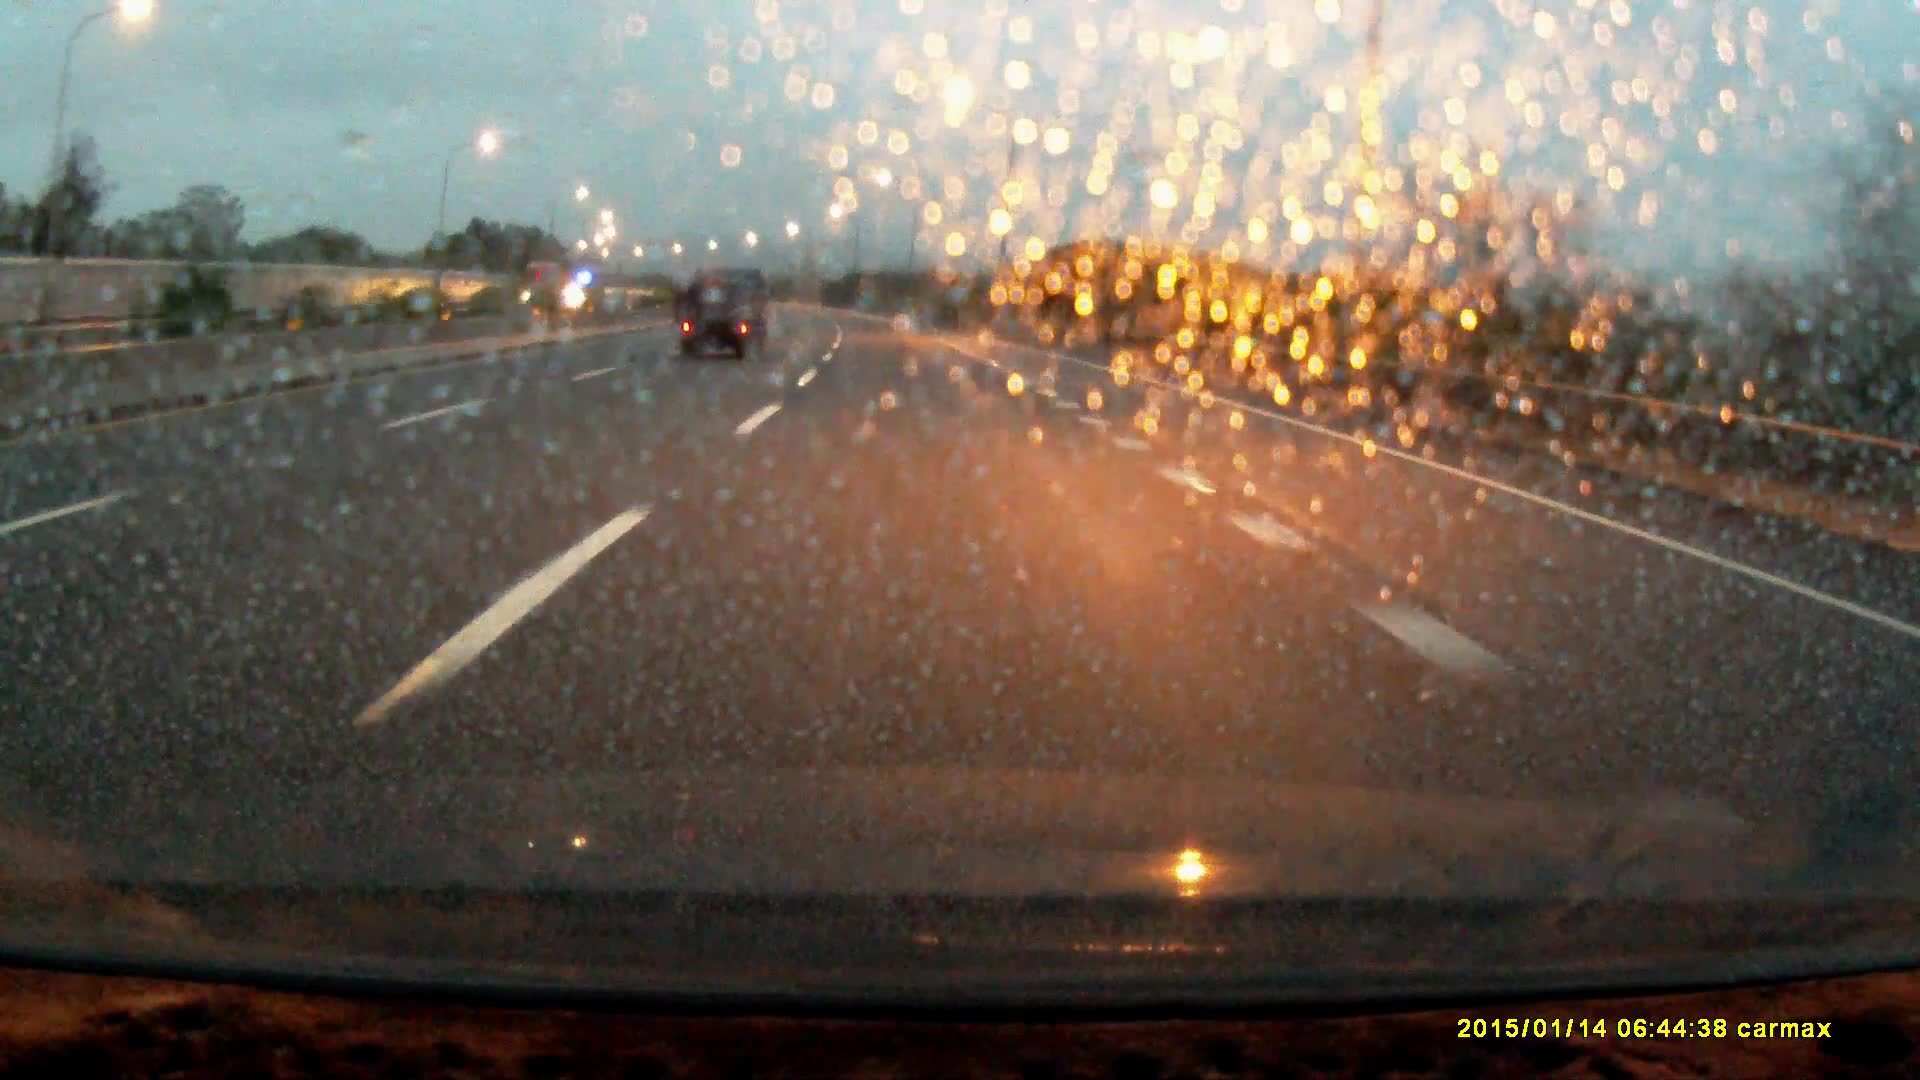vehicle: (680, 265, 766, 361), (516, 262, 572, 311)
